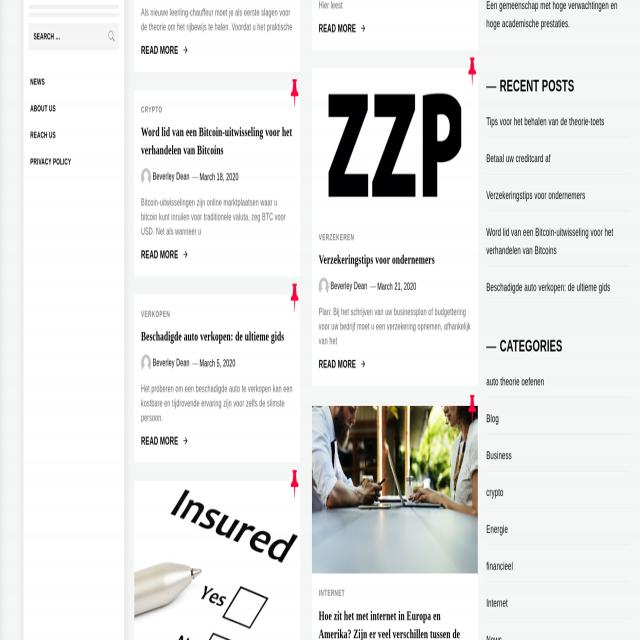button: (312, 414, 478, 565), (312, 68, 478, 218), (24, 95, 124, 122), (24, 148, 124, 175), (23, 68, 123, 95), (24, 122, 124, 148), (141, 244, 187, 264), (319, 18, 365, 38), (319, 354, 365, 374), (141, 430, 187, 450), (141, 40, 187, 60), (104, 23, 120, 50), (141, 168, 151, 186), (319, 278, 329, 296), (141, 354, 151, 372)
field: (29, 23, 119, 50)
